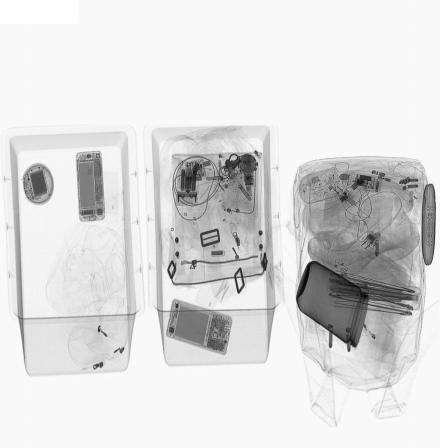Powerbank: (174, 157, 201, 207)
